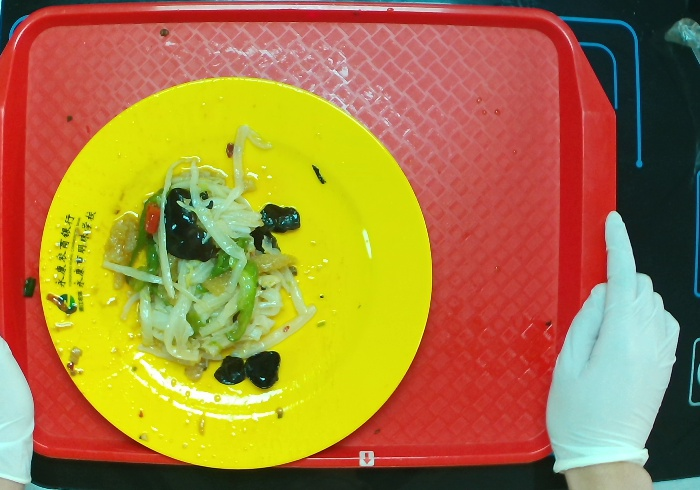YKMZ-Huang_Se_Mian_Pan: (32, 73, 433, 470)
